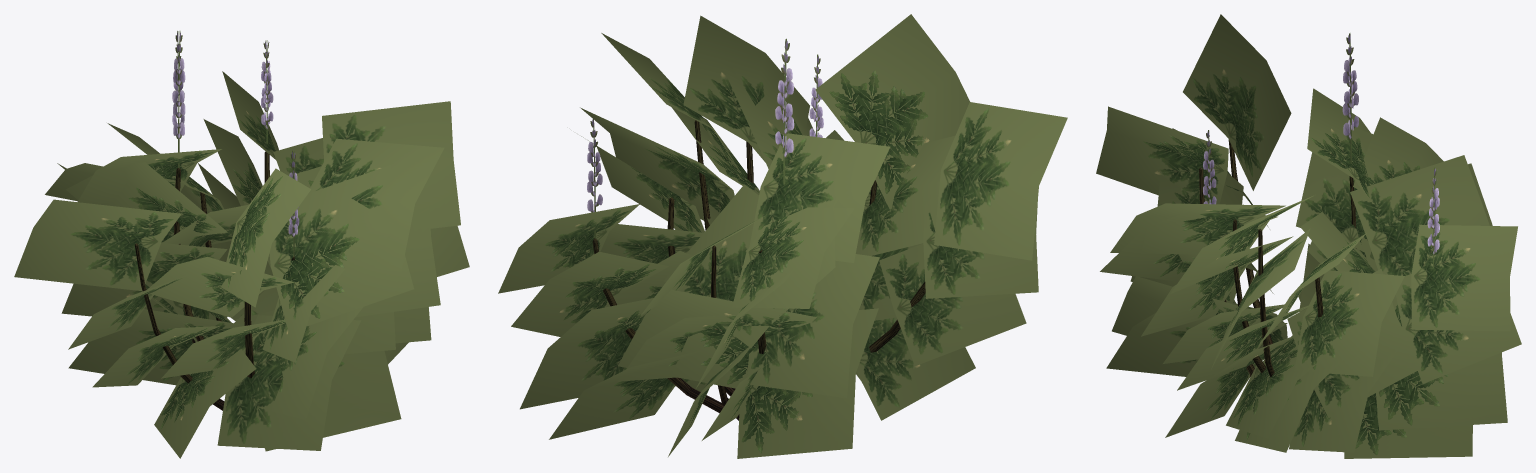
The model's file is hargoza.glb.
3 views of the same model, side by side, from view 1: azimuth 30°, elevation 25°; view 2: azimuth 150°, elevation 25°; view 3: azimuth 270°, elevation 25° (orthographic). The views are drawn at different scales.
Visible parts, largest first — view 1: leaves, flowers, wood; view 2: leaves, wood, flowers; view 3: leaves, flowers, wood.
Boxes of the visible parts, box(x1,y1,x2,y2) form: leaves: box(14, 71, 469, 458); flowers: box(172, 31, 299, 256); wood: box(134, 151, 294, 410); leaves: box(498, 14, 1067, 458); wood: box(592, 120, 925, 420); flowers: box(587, 38, 823, 238); leaves: box(1096, 14, 1521, 458); flowers: box(1203, 33, 1439, 268); wood: box(1199, 140, 1356, 391).
Size of the model in its own units: 1.2 by 1.06 by 1.09.
Materials: 3 (3 with a texture image).
